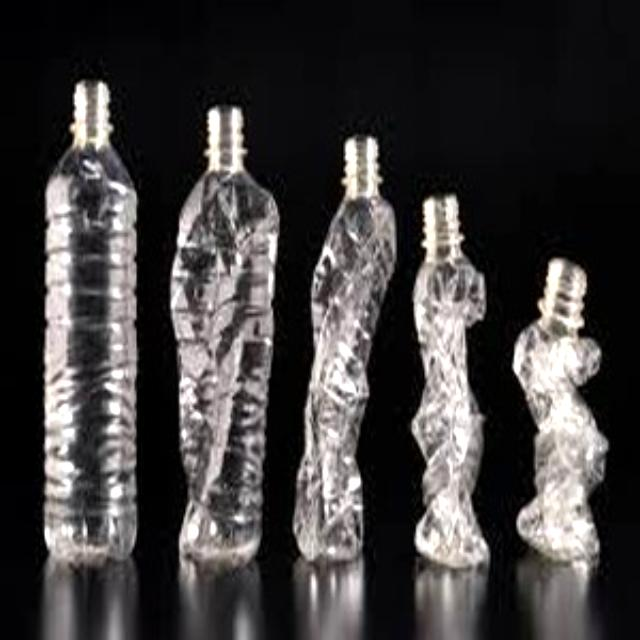Plastic: (165, 102, 278, 580), (290, 125, 404, 570), (36, 86, 142, 558), (408, 196, 498, 572), (510, 252, 614, 560)
